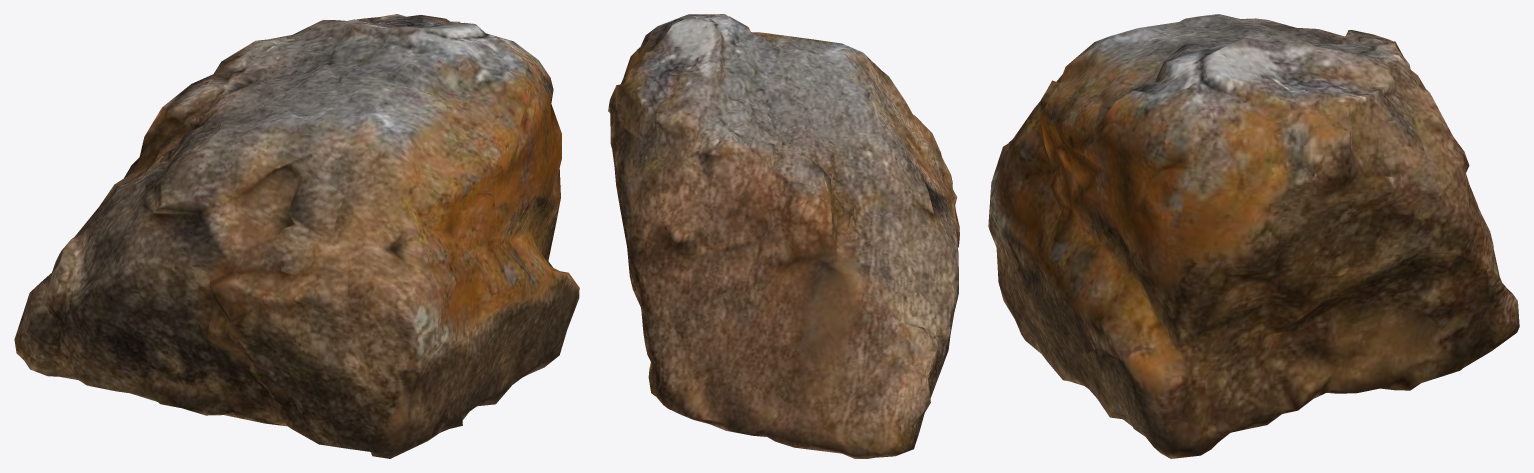
The model's file is namaqualand_boulder_04.glb.
3 renders of one model, left to right at view 1: azimuth 30°, elevation 25°; view 2: azimuth 150°, elevation 25°; view 3: azimuth 270°, elevation 25°, orthographic. The views are drawn at different scales.
Parts seen in each view (by area): view 1: boulder_04; view 2: boulder_04; view 3: boulder_04.
Boxes of the visible parts, x1=… form: boulder_04: x1=14, y1=14, x2=579, y2=458; boulder_04: x1=608, y1=14, x2=959, y2=458; boulder_04: x1=988, y1=14, x2=1519, y2=458.
Size of the model in its own units: 2.52 by 1.9 by 2.49.
Materials: 1 (1 with a texture image).
